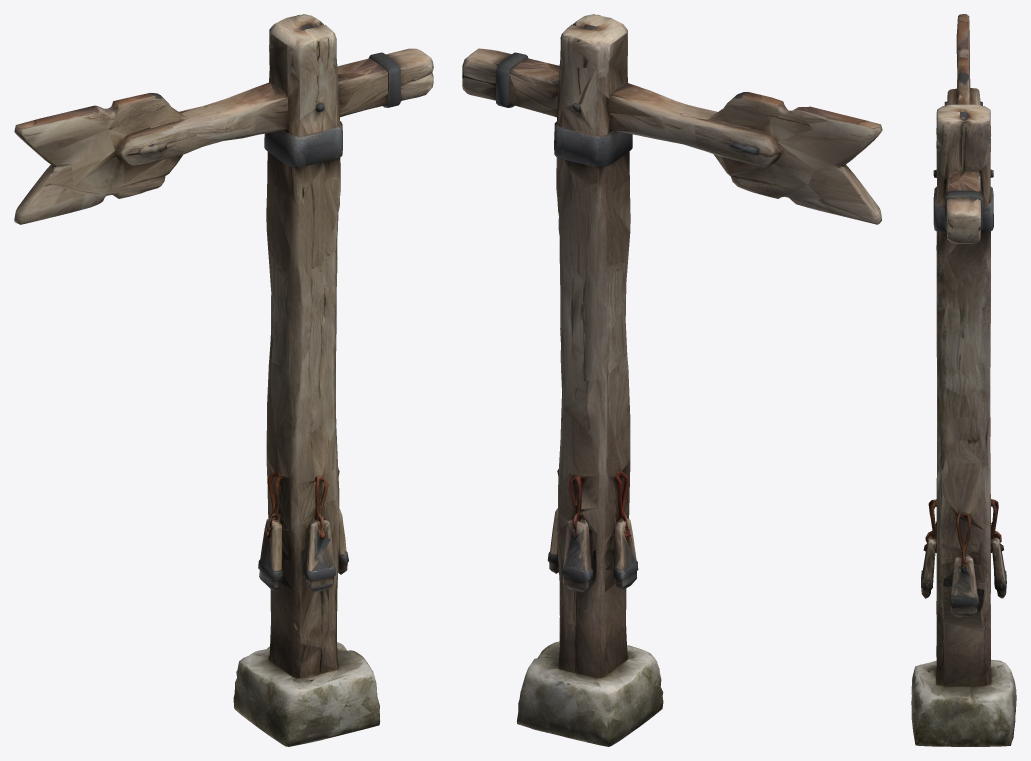
File: Signpost.fbx
3 views of the same model, side by side, from view 1: azimuth 30°, elevation 25°; view 2: azimuth 150°, elevation 25°; view 3: azimuth 270°, elevation 25° (orthographic). The views are drawn at different scales.
Parts seen in each view (by area): view 1: Mesh_0; view 2: Mesh_0; view 3: Mesh_0.
Part boxes in pixels (x1=…): Mesh_0: x1=14, y1=14, x2=433, y2=746; Mesh_0: x1=462, y1=14, x2=882, y2=746; Mesh_0: x1=911, y1=14, x2=1016, y2=746.
Size of the model in its own units: 119 by 190 by 29.58.
1 material, 1 textured.
